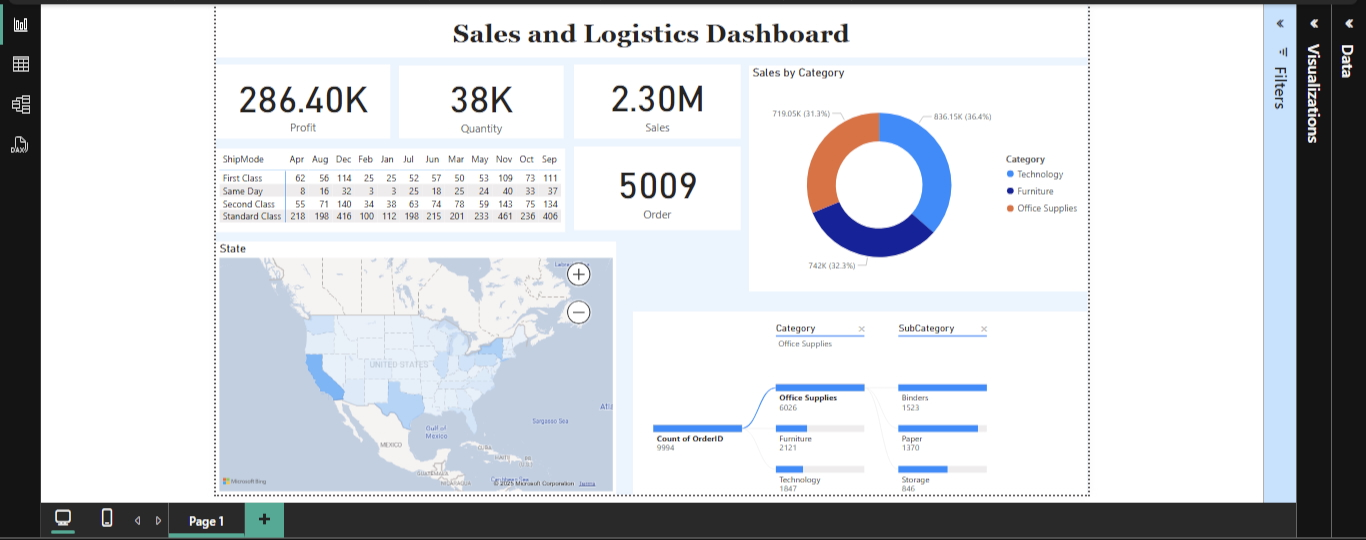

The dashboard page shown, as its layout file describes it:
{"tool":"powerbi","page":{"name":"Page 1","canvas":[1280,720],"ordinal":0},"visuals":[{"type":"card","fields":{"Values":["Sum(ctblOCP.Profit)"]},"box":[0,88.2,255.7,108.7],"z":0},{"type":"card","fields":{"Values":["Sum(ctblOCP.Quantity)"]},"box":[268.9,89.6,242.4,107.3],"z":1000},{"type":"card","fields":{"Values":["Sum(ctblOCP.Sales)"]},"box":[526,88.2,245.4,108.7],"z":2000},{"type":"decompositionTreeVisual","fields":{"ExplainBy":["Products.Category","Products.SubCategory"],"Analyze":["CountNonNull(ctblOCP.OrderID)"]},"box":[612.7,451.1,667.1,268.9],"z":3000},{"type":"pivotTable","fields":{"Rows":["Orders.ShipMode"],"Columns":["Orders.Month"],"Values":["Count(ctblOCP.OrderID)"]},"box":[0,211.6,512.8,123.4],"z":4000},{"type":"donutChart","fields":{"Category":["Products.Category"],"Y":["Sum(ctblOCP.Sales)"]},"box":[783.2,89.6,496.7,332.1],"z":5000},{"type":"filledMap","fields":{"Category":["Orders.State"]},"box":[0,348.2,587.8,371.8],"z":6000},{"type":"card","fields":{"Values":["Count(ctblOCP.OrderID)"]},"box":[526,208.7,245.4,123.4],"z":7000},{"type":"textbox","box":[0,0,1279.8,77.9],"z":8000}]}

Visuals, with their boxes on the page's 1280x720 design canvas (x1, y1, x2, y2). These are canvas units, not pixel positions in the 1366x540 screenshot, which may show the page scaled, cropped or inside an application window:
card - Sum(ctblOCP.Profit): {"x1": 0, "y1": 88, "x2": 256, "y2": 197}
card - Sum(ctblOCP.Quantity): {"x1": 269, "y1": 90, "x2": 511, "y2": 197}
card - Sum(ctblOCP.Sales): {"x1": 526, "y1": 88, "x2": 771, "y2": 197}
decompositionTreeVisual - Products.Category x Products.SubCategory: {"x1": 613, "y1": 451, "x2": 1280, "y2": 720}
pivotTable - Orders.ShipMode x Orders.Month: {"x1": 0, "y1": 212, "x2": 513, "y2": 335}
donutChart - Products.Category x Sum(ctblOCP.Sales): {"x1": 783, "y1": 90, "x2": 1280, "y2": 422}
filledMap - Orders.State: {"x1": 0, "y1": 348, "x2": 588, "y2": 720}
card - Count(ctblOCP.OrderID): {"x1": 526, "y1": 209, "x2": 771, "y2": 332}
textbox: {"x1": 0, "y1": 0, "x2": 1280, "y2": 78}
